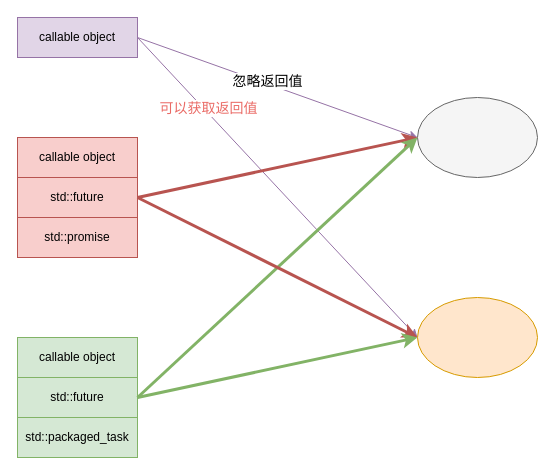
The diagram is 555 pixels wide and 475 high, and some of its shapes have lost their labels. Here are the shapes that lost their labels. From the top down, the centre of each, then its label:
At point (477, 137): "std::thread".
At point (477, 337): "std::async".
